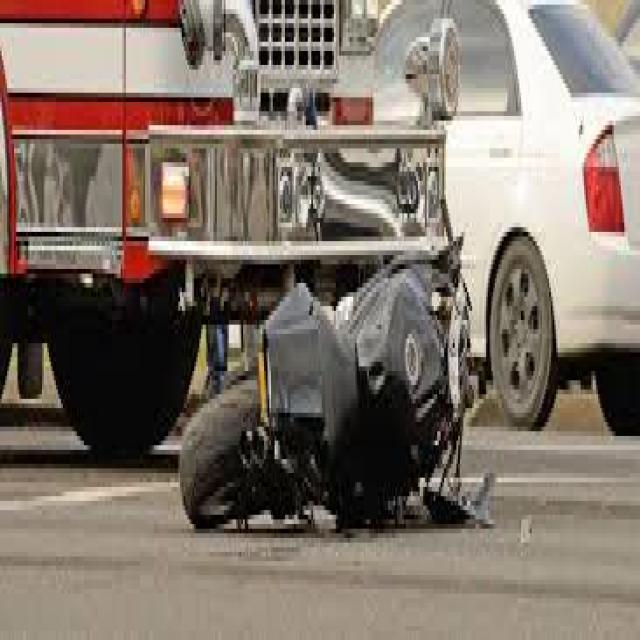accident: (160, 240, 504, 584)
